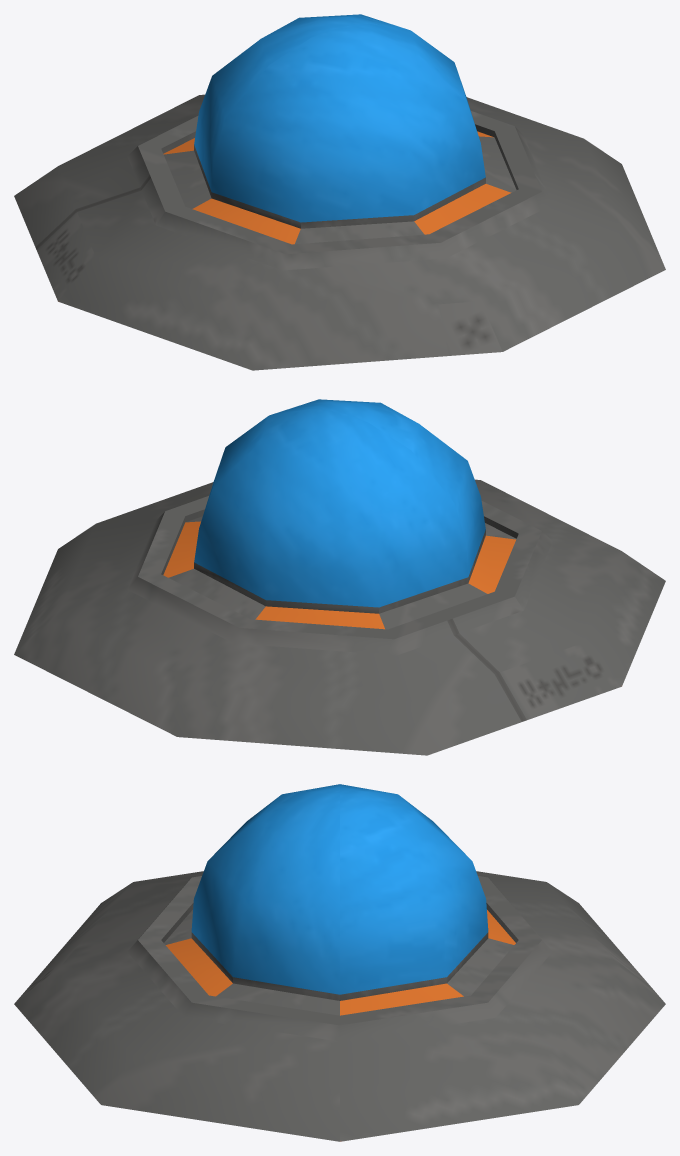
The model's file is Ovni.fbx.
3 renders of one model, top to bottom at view 1: azimuth 30°, elevation 25°; view 2: azimuth 150°, elevation 25°; view 3: azimuth 270°, elevation 25°, orthographic.
Parts seen in each view (by area): view 1: Plane; view 2: Plane; view 3: Plane.
Part boxes in pixels (x1=…): Plane: x1=14, y1=14, x2=665, y2=370; Plane: x1=14, y1=399, x2=665, y2=755; Plane: x1=14, y1=784, x2=665, y2=1141.
Size of the model in its own units: 183 by 63.67 by 183.
